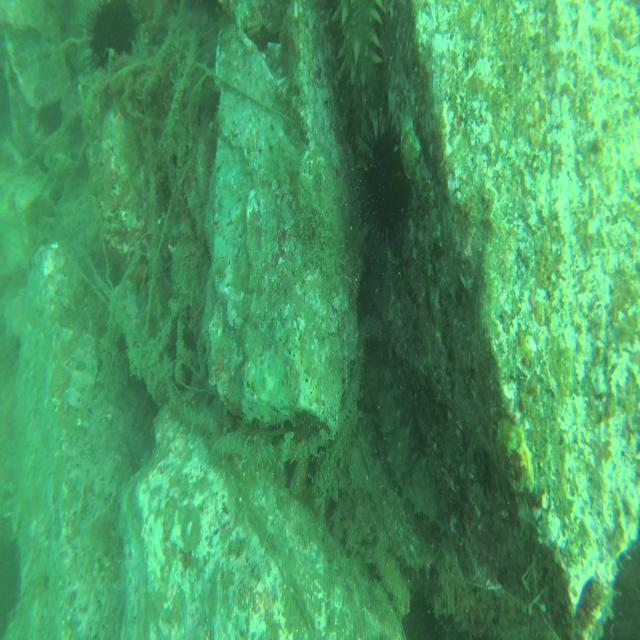echinus: (347, 123, 417, 244), (80, 3, 147, 72)
holothurian: (374, 387, 435, 518), (335, 0, 387, 118)
